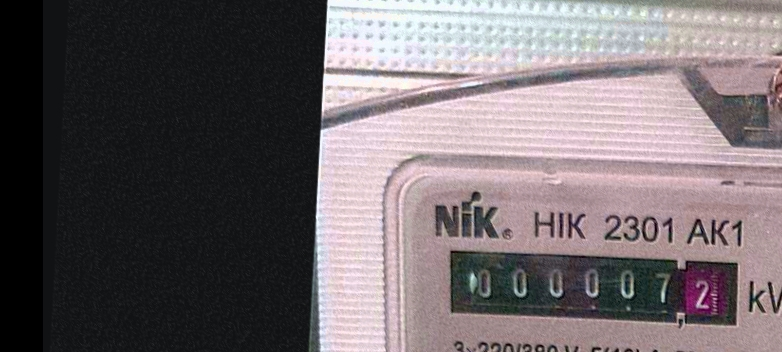0: (542, 261, 567, 300), (471, 262, 495, 299), (614, 263, 637, 300), (580, 263, 602, 301), (508, 262, 530, 298)
2: (690, 274, 713, 311)
7: (650, 266, 673, 305)
screen: (440, 238, 748, 334)
